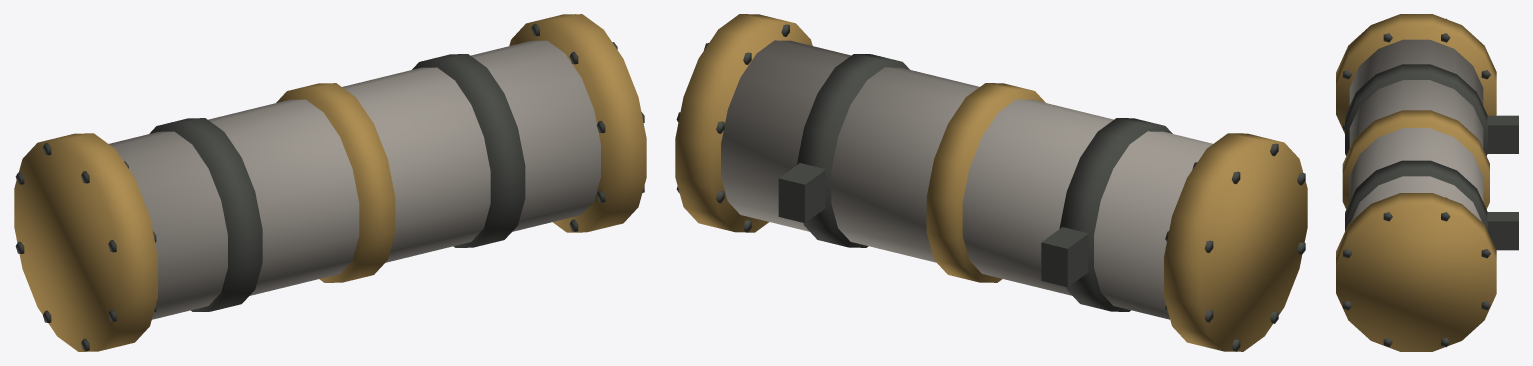
The model's file is b2_pipe.glb.
The picture shows the model from 3 angles, left to right: view 1: azimuth 30°, elevation 25°; view 2: azimuth 150°, elevation 25°; view 3: azimuth 270°, elevation 25°; orthographic projection. The views are drawn at different scales.
Visible parts, largest first — view 1: b2_pipe; view 2: b2_pipe; view 3: b2_pipe.
Part boxes in pixels (left/top/right/bottom): b2_pipe: left=14, top=14, right=646, bottom=351; b2_pipe: left=675, top=14, right=1307, bottom=351; b2_pipe: left=1336, top=14, right=1518, bottom=351.
Size of the model in its own units: 2.02 by 0.7062 by 0.8031.
